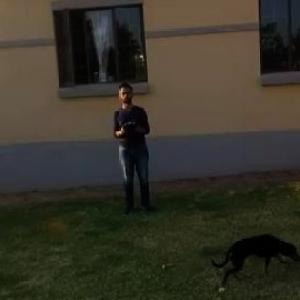follow: (111, 80, 155, 220)
null: (208, 226, 299, 292)
